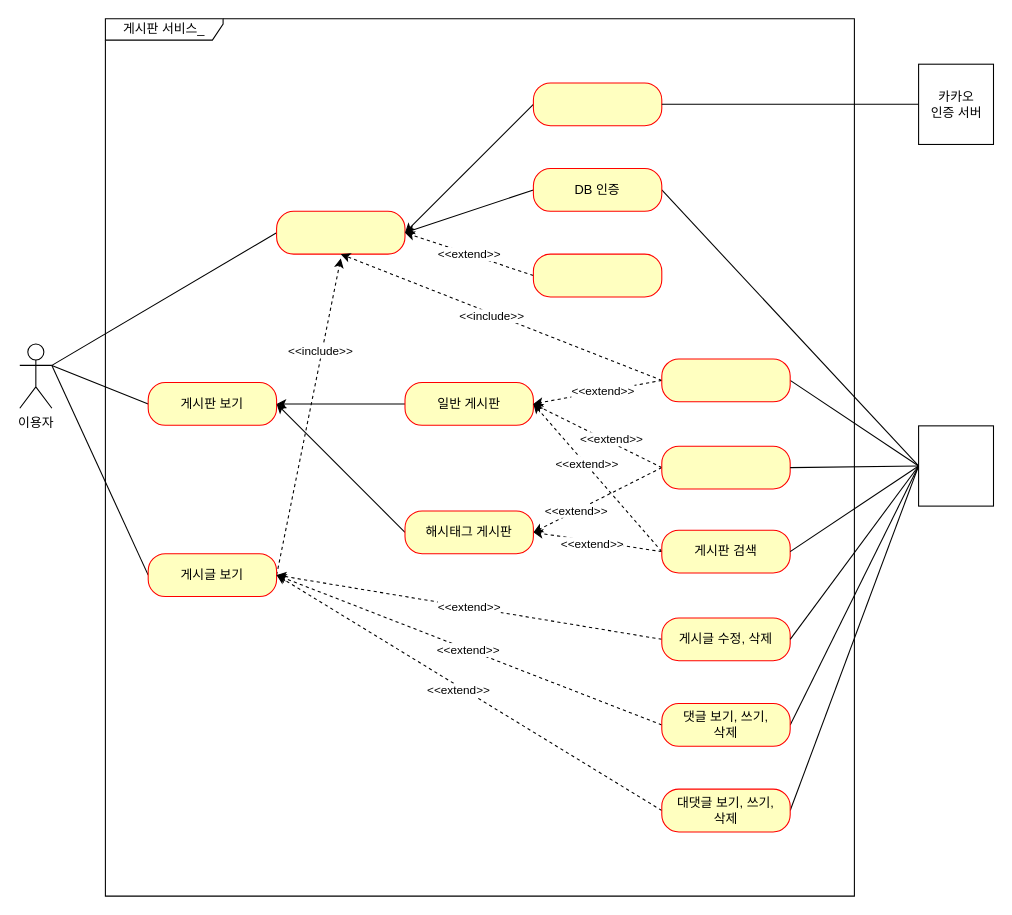
The diagram is 1012 pixels wide and 915 high, and some of its shapes have lost their labels. Here are the shapes that lost their labels. From the top down, the centre of each, then its label:
At (597,104): "카카오 인증".
At (340,232): "회원 로그인".
At (597,275): "로그인 실패".
At (725,380): "게시글 쓰기".
At (725,467): "게시판 정렬".
At (955,465): "DB".
